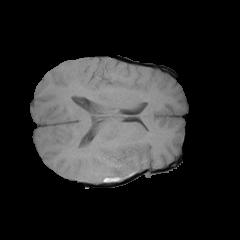glioma: (94, 147, 142, 182)
